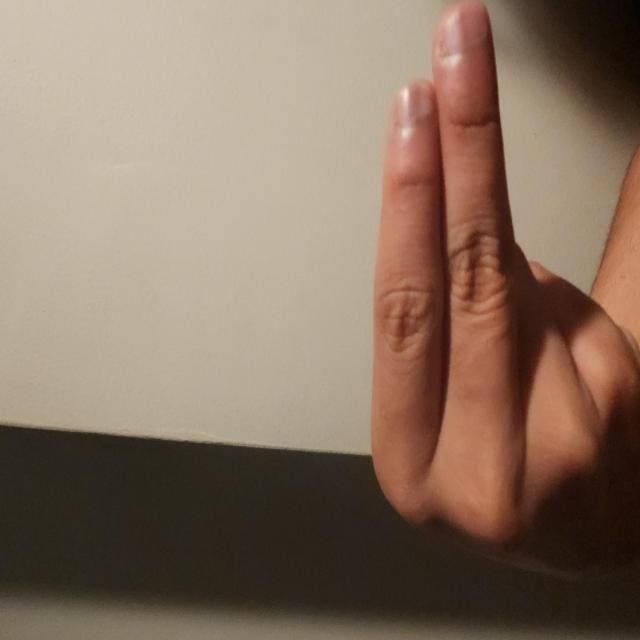H: (50, 476, 480, 640)
